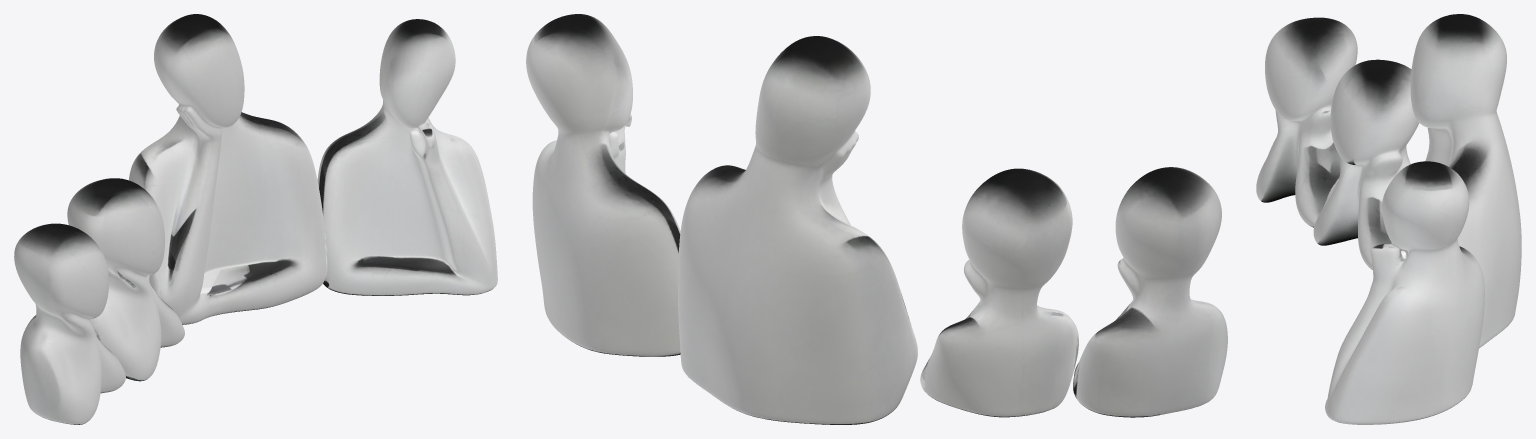
File: bed-thinker-family.glb
3 views of the same model, side by side, from view 1: azimuth 30°, elevation 25°; view 2: azimuth 150°, elevation 25°; view 3: azimuth 270°, elevation 25° (orthographic). The views are drawn at different scales.
Parts seen in each view (by area): view 1: mesh_node; view 2: mesh_node; view 3: mesh_node.
Boxes of the visible parts, x1=… form: mesh_node: x1=14, y1=14, x2=497, y2=424; mesh_node: x1=526, y1=14, x2=1227, y2=424; mesh_node: x1=1256, y1=14, x2=1521, y2=424.
Size of the model in its own units: 1.9 by 1.05 by 0.8701.
1 material, 1 textured.
